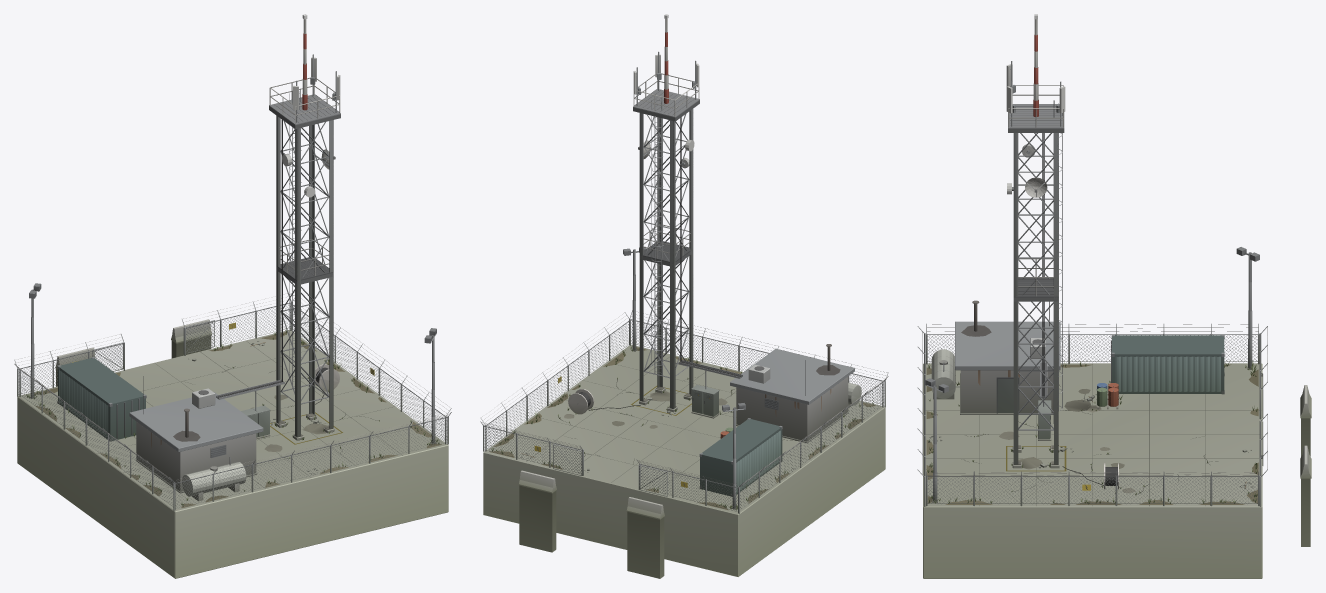
Rendered from mark_relay.glb.
The picture shows the model from 3 angles, left to right: view 1: azimuth 30°, elevation 25°; view 2: azimuth 150°, elevation 25°; view 3: azimuth 270°, elevation 25°; orthographic projection. The views are drawn at different scales.
Parts seen in each view (by area): view 1: yard, steel, concrete, cargo, leaf; view 2: yard, steel, concrete, cargo, leaf; view 3: yard, steel, cargo, concrete, leaf.
Boxes of the visible parts, left/top/right/bottom form: yard: left=17, top=330, right=448, bottom=578; steel: left=14, top=19, right=451, bottom=511; concrete: left=55, top=319, right=334, bottom=501; cargo: left=58, top=358, right=145, bottom=440; leaf: left=26, top=328, right=439, bottom=506; yard: left=483, top=344, right=885, bottom=576; steel: left=480, top=19, right=888, bottom=513; concrete: left=518, top=376, right=851, bottom=578; cargo: left=700, top=419, right=782, bottom=496; leaf: left=491, top=346, right=873, bottom=509; yard: left=923, top=363, right=1262, bottom=578; steel: left=917, top=19, right=1267, bottom=506; cargo: left=1112, top=335, right=1224, bottom=393; concrete: left=928, top=370, right=1311, bottom=546; leaf: left=926, top=361, right=1257, bottom=504.
Size of the model in its own units: 18.59 by 30.22 by 20.89.
